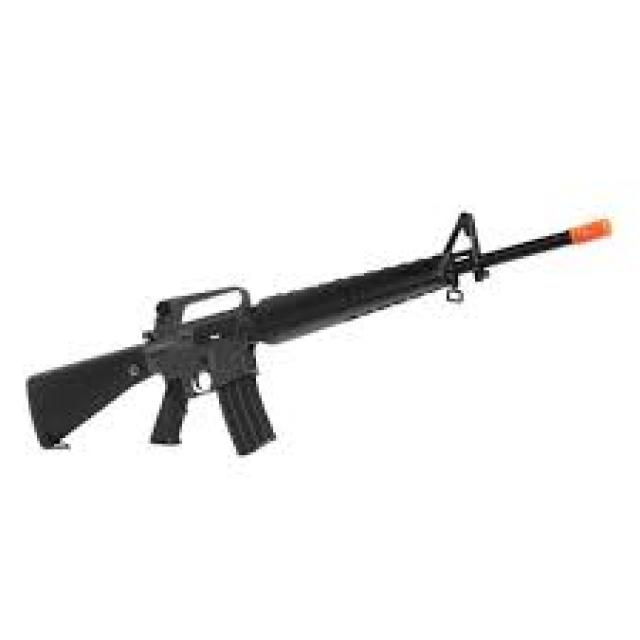rifle: (25, 209, 621, 477)
